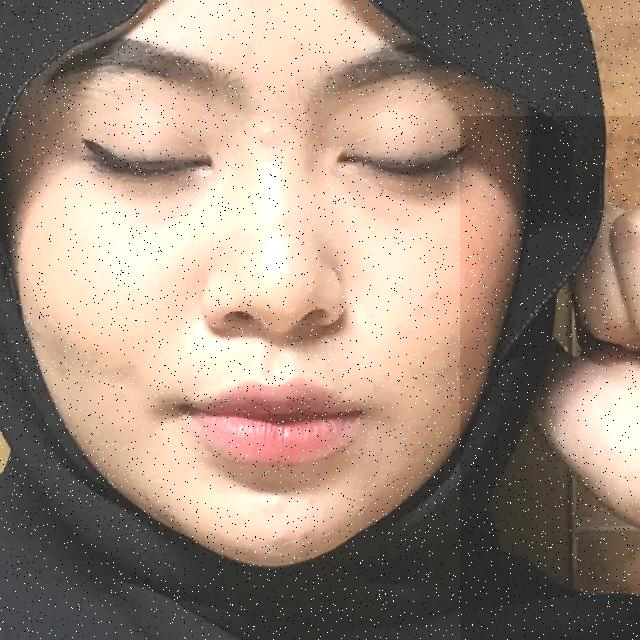ibu: (460, 116, 640, 640)
